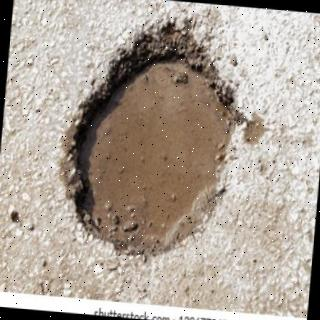pothole: (58, 30, 236, 259)
